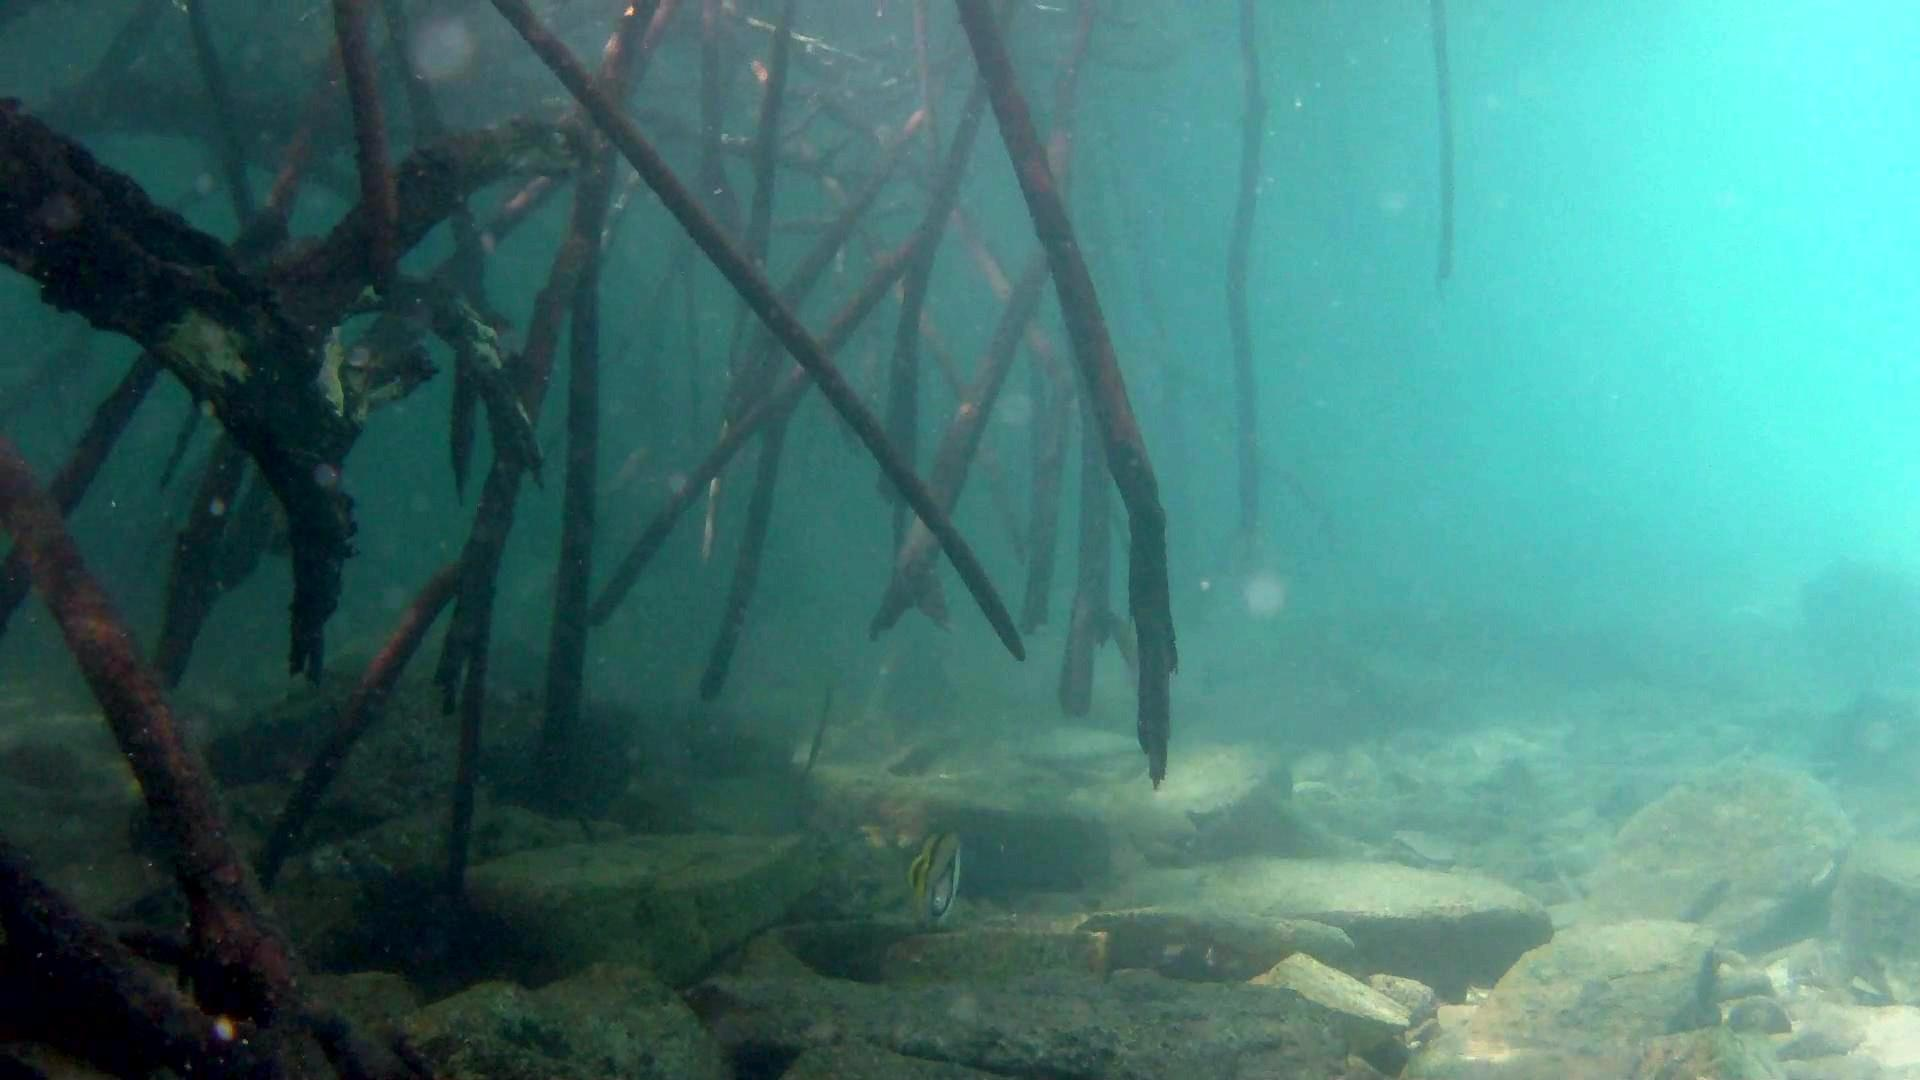chaetodon vagabundus: (903, 828, 966, 932)
